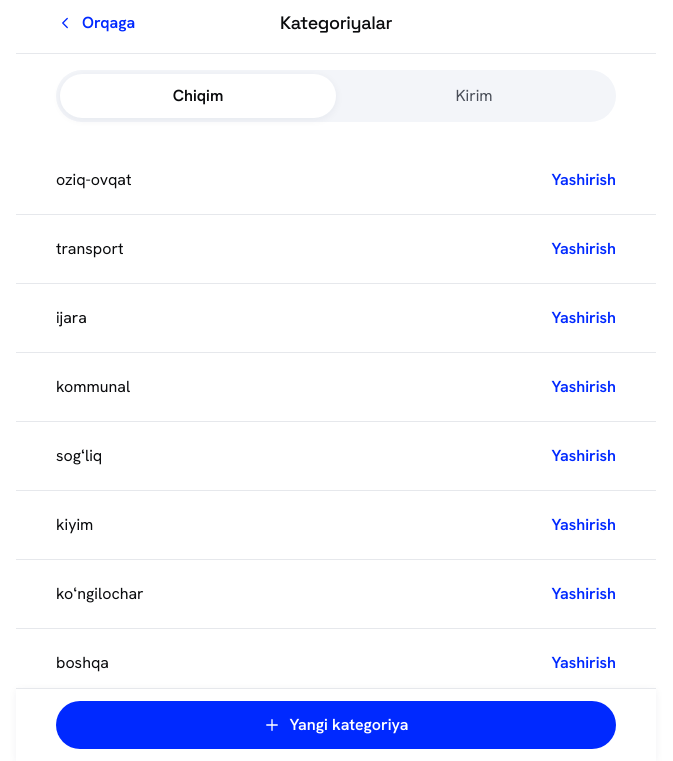
Test: xato holatlari — matnlar dizayn faylidan (mezon 14a, 14b) › koʻrinib turgan takror nom: «Bunday kategoriya bor.»
Step 1. Click the button named "＋ Yangi kategoriya" → (336, 725), box [56,701,616,749]
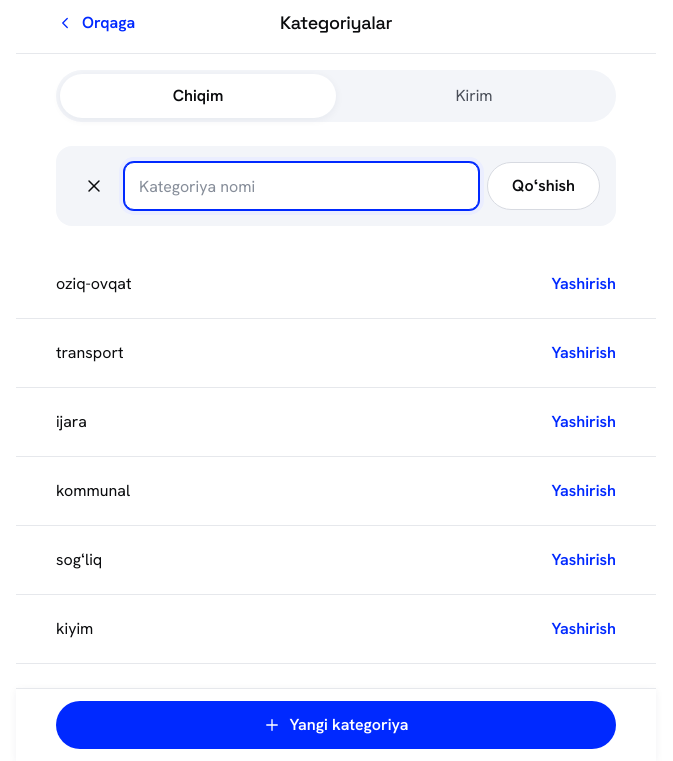
Step 2. Type "transport" into the field labelled "Kategoriya nomi" → (302, 186), box [124,162,479,210]
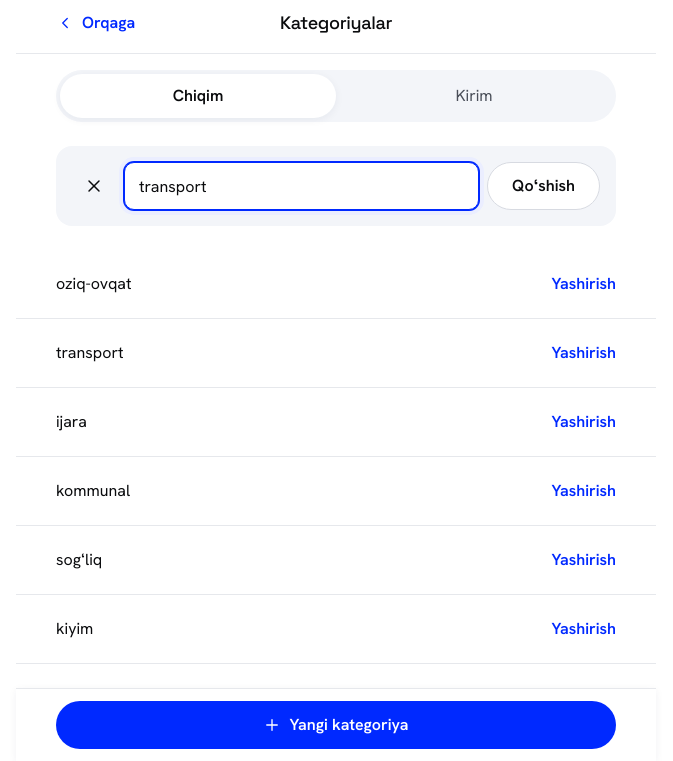
Step 3. Click the button "Qoʻshish" → (544, 186), box [487,162,600,210]
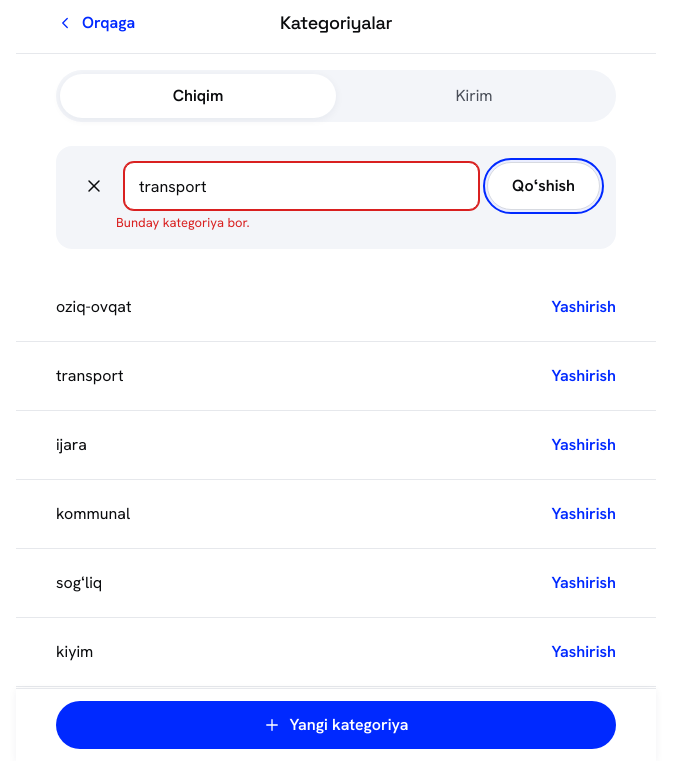
Result: the text "Bunday kategoriya bor." is shown at [116,214,250,231]
